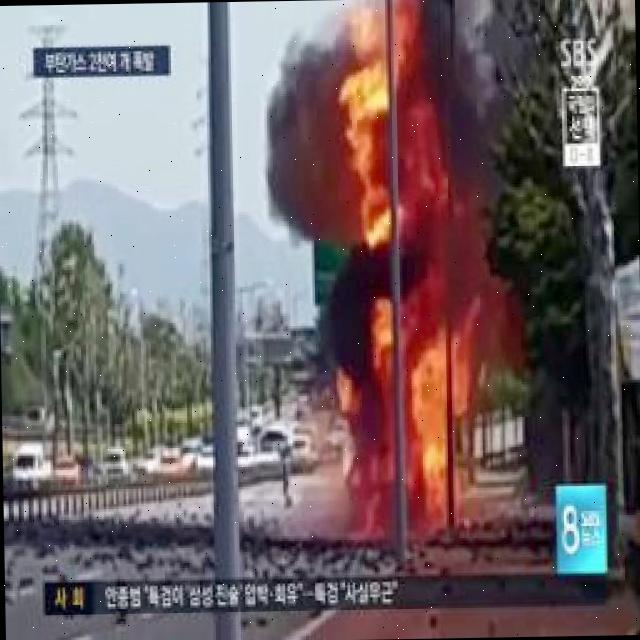fire: (372, 279, 482, 529), (340, 28, 446, 234)
